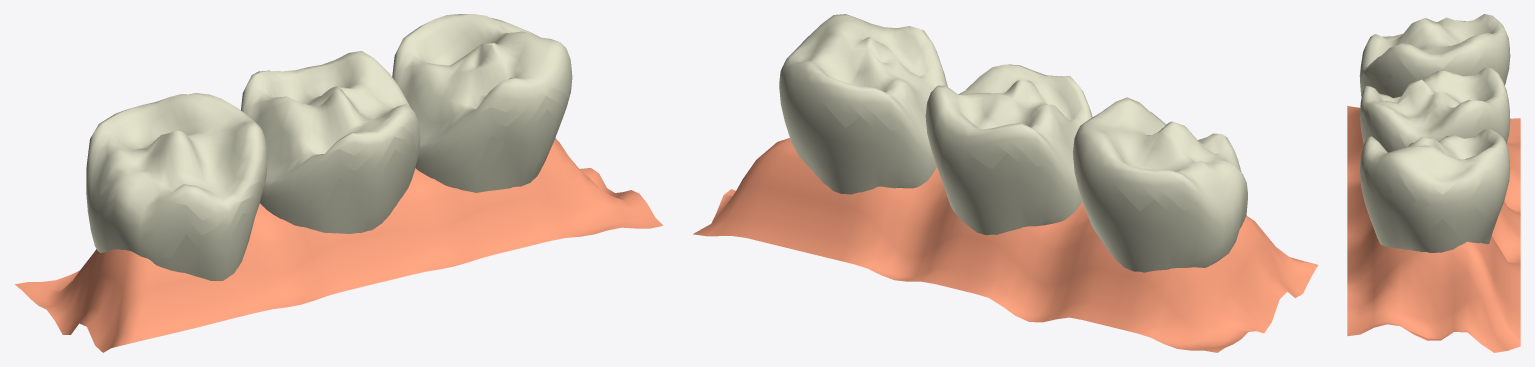
The model's file is human teeth.fbx.
The picture shows the model from 3 angles, left to right: view 1: azimuth 30°, elevation 25°; view 2: azimuth 150°, elevation 25°; view 3: azimuth 270°, elevation 25°; orthographic projection. The views are drawn at different scales.
Parts seen in each view (by area): view 1: Model, Group1; view 2: Model, Group1; view 3: Model, Group1.
Part boxes in pixels (x1,y1,x2,y2): Model: (86,14,572,280); Group1: (15,138,662,352); Model: (779,14,1247,272); Group1: (693,138,1317,352); Model: (1359,14,1510,252); Group1: (1347,106,1520,352).
Bounding box in the file's own units: 1950 × 694 × 650.
